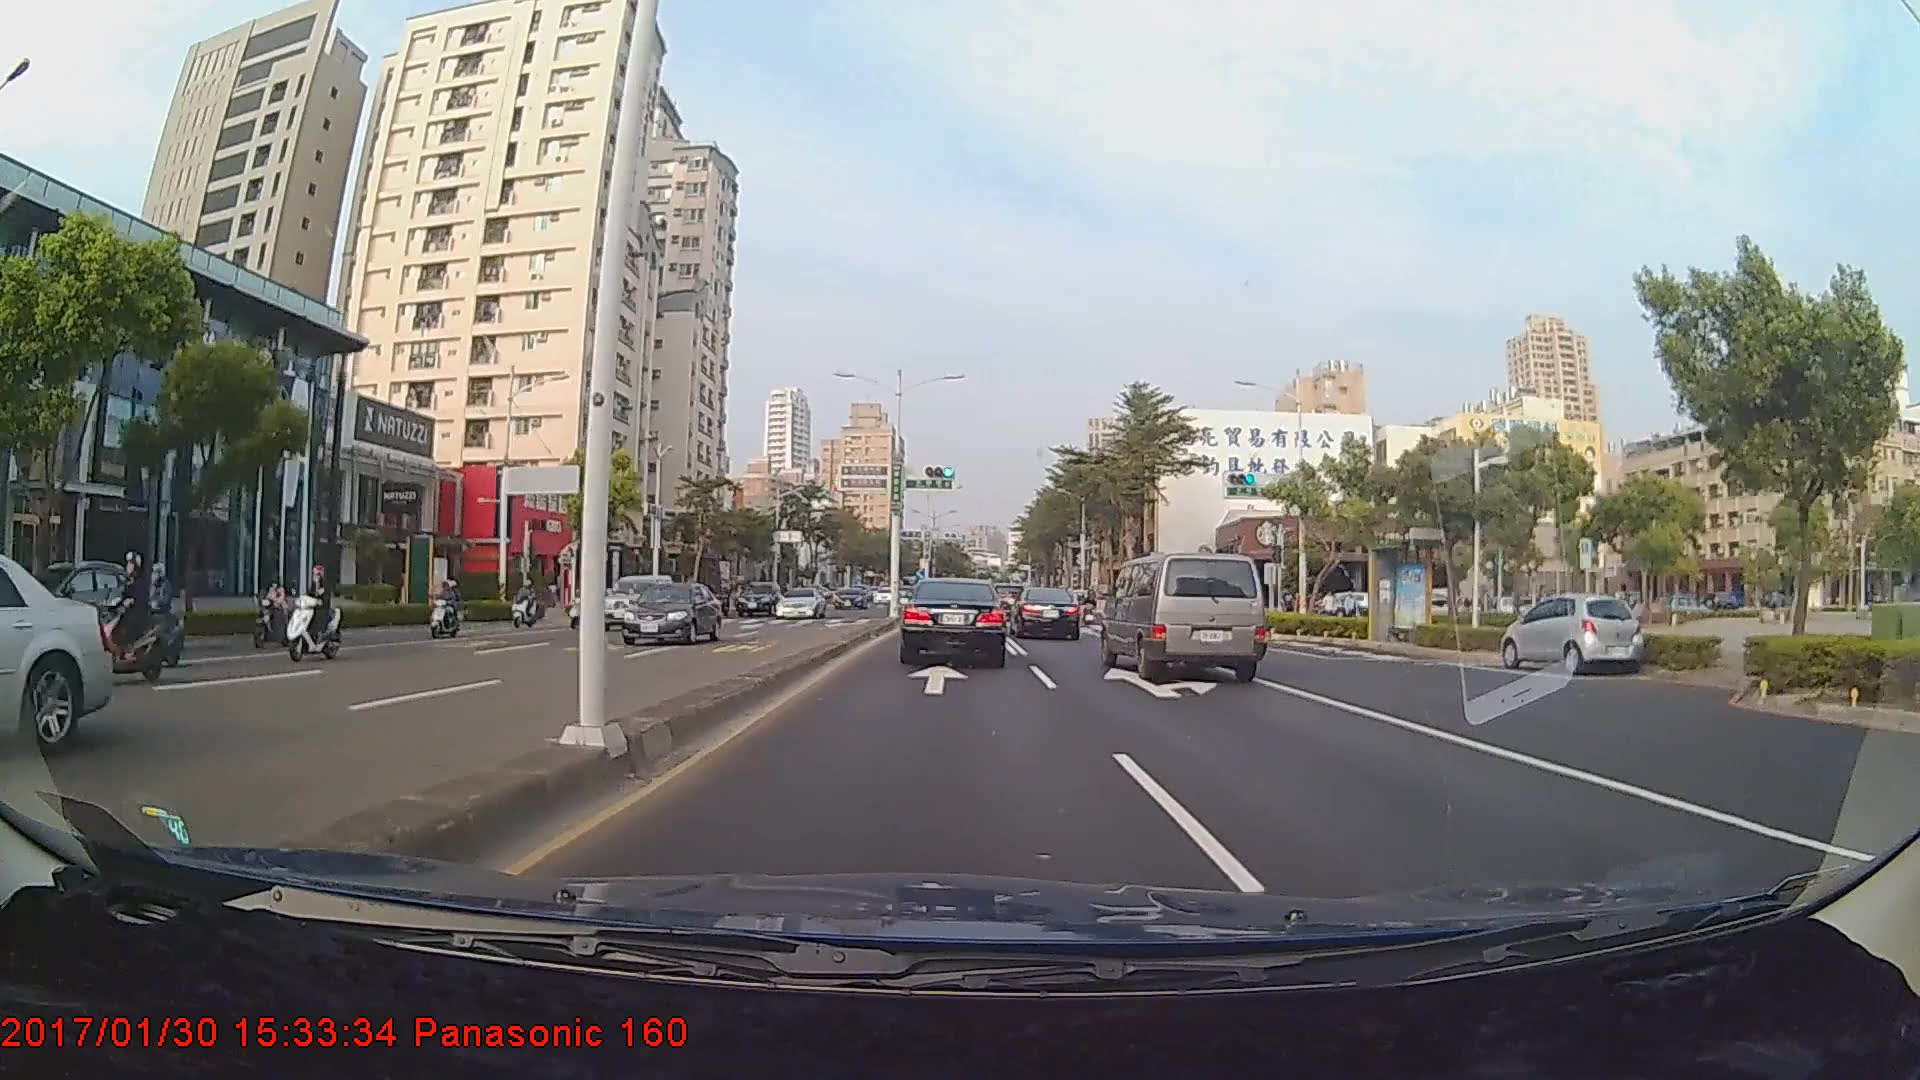rider: (84, 549, 176, 683), (281, 559, 352, 667), (248, 574, 303, 648), (427, 573, 465, 641)
vehicle: (0, 544, 115, 763), (1102, 547, 1267, 687), (1501, 591, 1641, 675), (900, 577, 1007, 665), (619, 579, 722, 646), (595, 571, 675, 631), (1007, 587, 1081, 640), (735, 577, 782, 615), (772, 585, 826, 616), (833, 584, 870, 611)
